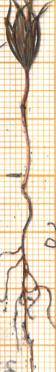flower: (0, 0, 56, 71)
root: (0, 174, 55, 371)
stem: (17, 71, 35, 176)
